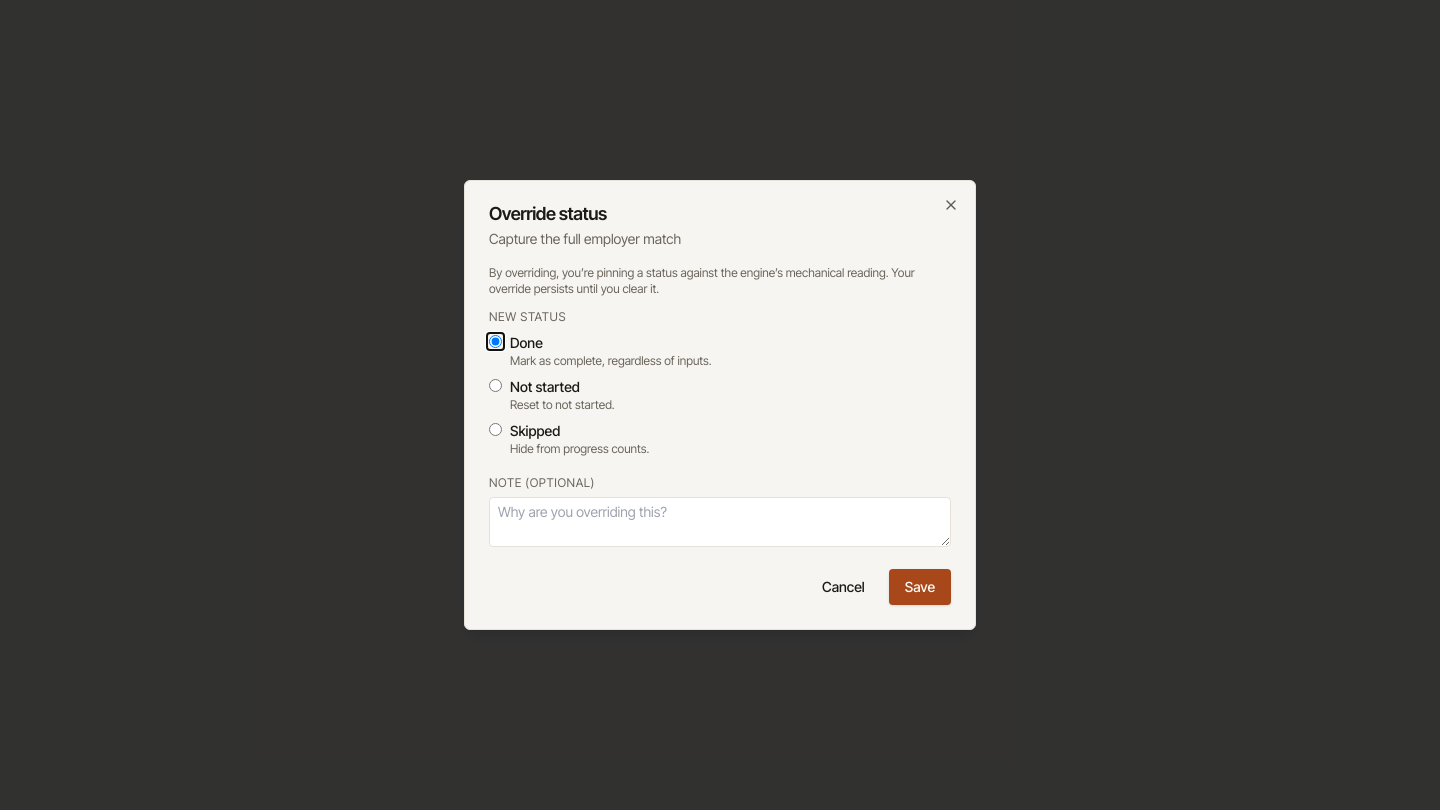
OverrideDialog › surfaces an inline error when setOverride rejects
Click the button "Save" at (920, 587), box 889,569 -> 951,605
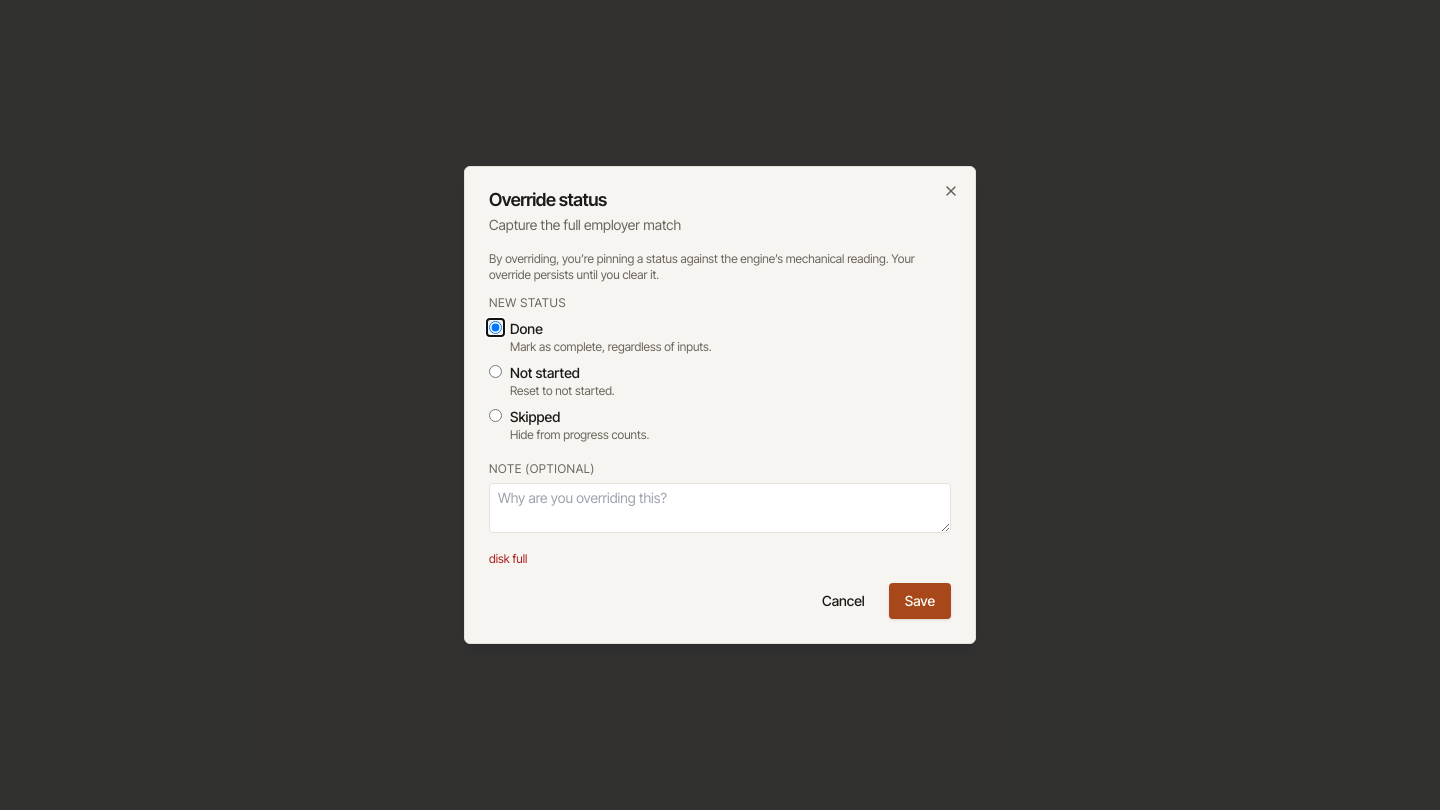
Check: the message reads "disk full", box 489,551 -> 527,566
